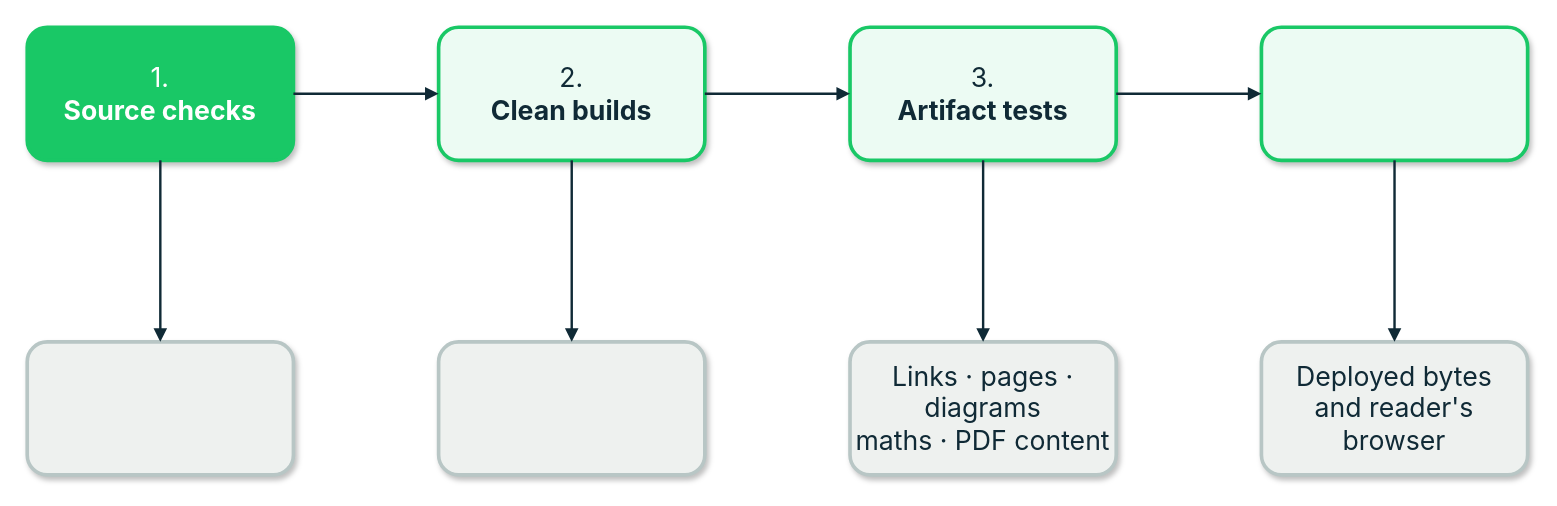
Image size: 1557x506. Some labels were removed from this diagram. Each missing label, with the centre of its shape:
"4. Delivery check" belongs at pixel 1395 95.
"Configuration · pins lint · unit tests" belongs at pixel 161 410.
"Create the website and PDF" belongs at pixel 572 410.
